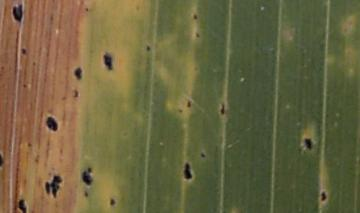tarspot: (51, 175, 61, 198), (12, 4, 23, 23), (103, 51, 113, 71), (45, 116, 58, 131), (81, 172, 93, 187), (184, 162, 192, 180), (18, 198, 27, 213), (74, 66, 83, 80), (43, 179, 51, 194), (219, 102, 226, 116), (305, 136, 312, 150), (320, 190, 327, 203), (185, 97, 192, 108), (72, 89, 80, 98), (176, 106, 184, 114), (109, 197, 115, 207), (199, 151, 206, 159), (194, 31, 201, 38), (83, 6, 90, 13), (145, 43, 151, 51), (21, 81, 27, 89), (31, 60, 37, 68), (1, 153, 4, 168), (21, 47, 27, 54), (84, 190, 89, 197), (87, 166, 92, 173), (193, 13, 198, 20), (27, 141, 32, 147)
